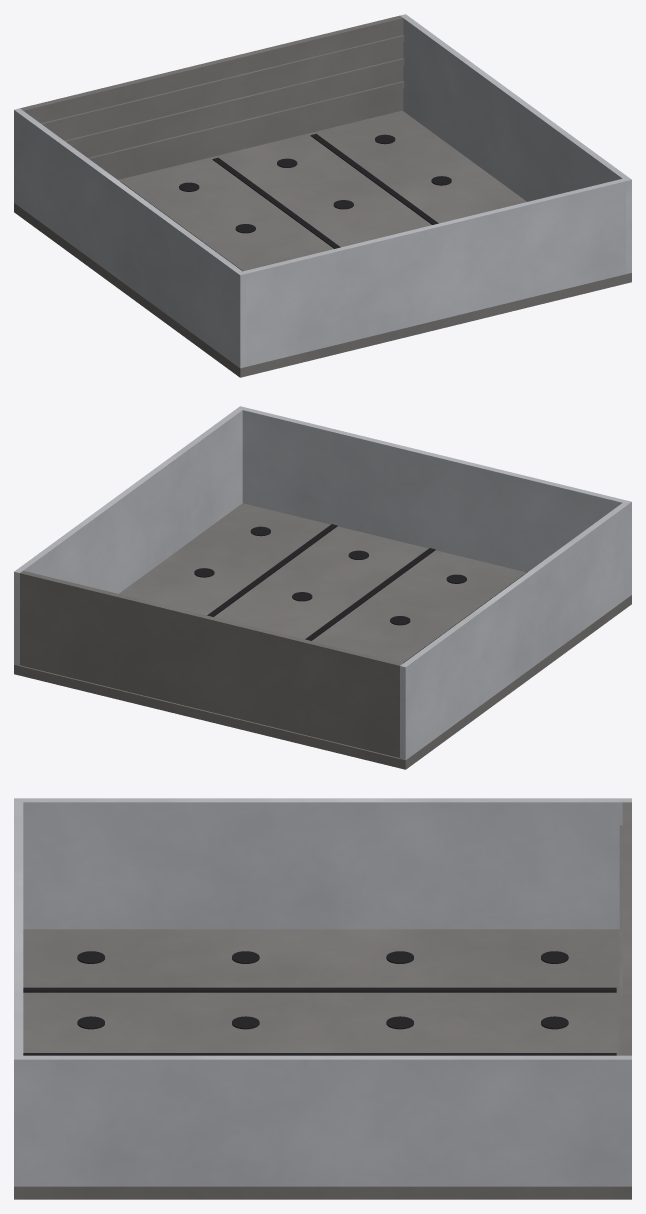
The model's file is rover25_cargo_bed_m.glb.
3 renders of one model, top to bottom at view 1: azimuth 30°, elevation 25°; view 2: azimuth 150°, elevation 25°; view 3: azimuth 270°, elevation 25°, orthographic. The views are drawn at different scales.
Visible parts, largest first — view 1: side_walls, floor, front_wall, tailgate, tie_down_rails, sockets; view 2: side_walls, floor, tailgate, front_wall, tie_down_rails, sockets; view 3: side_walls, floor, tie_down_rails, tailgate, front_wall, sockets.
Boxes of the visible parts, box(x1,y1,x2,y2) form: side_walls: box(14, 14, 631, 368); floor: box(14, 110, 631, 377); front_wall: box(243, 178, 625, 366); tailgate: box(20, 15, 404, 179); tie_down_rails: box(120, 133, 438, 271); sockets: box(179, 134, 451, 233); side_walls: box(14, 406, 631, 760); floor: box(14, 503, 631, 769); tailgate: box(20, 570, 402, 757); front_wall: box(242, 407, 625, 572); tie_down_rails: box(207, 524, 527, 663); sockets: box(194, 526, 466, 625); side_walls: box(14, 798, 631, 1186); floor: box(14, 929, 631, 1199); tie_down_rails: box(23, 987, 616, 1055); tailgate: box(619, 802, 631, 1055); front_wall: box(14, 802, 23, 1055); sockets: box(77, 951, 568, 1029).
Size of the model in its own units: 2 by 0.5 by 2.
3 materials, 2 textured.
